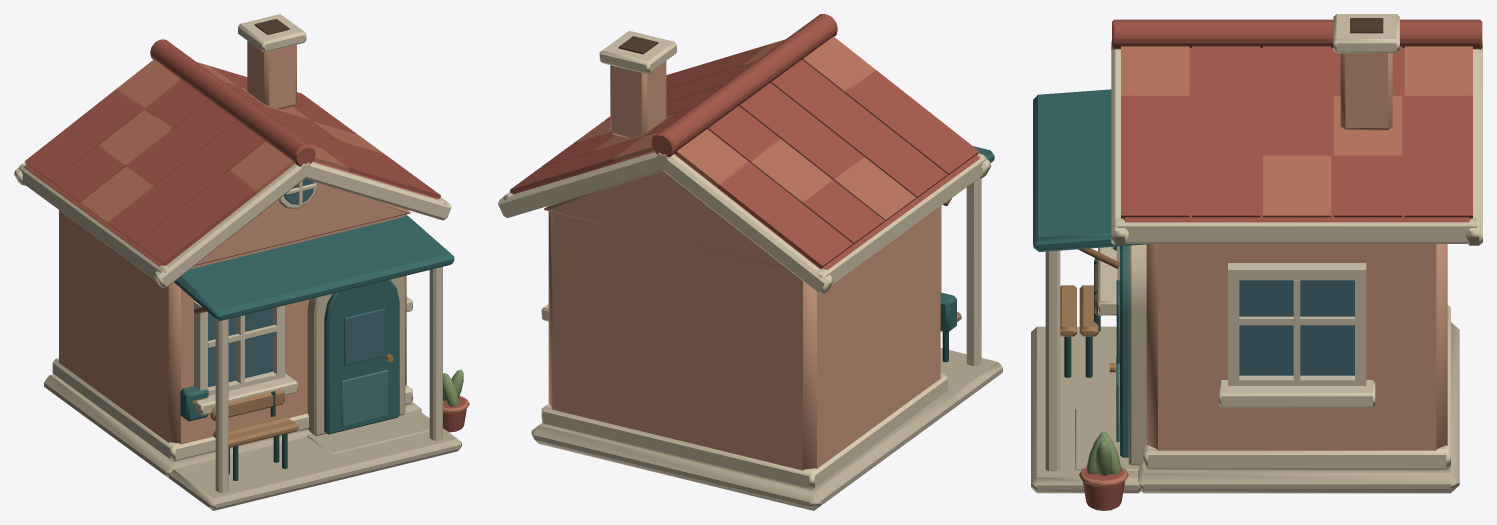
File: house_level_2.glb
The picture shows the model from 3 angles, left to right: view 1: azimuth 30°, elevation 25°; view 2: azimuth 150°, elevation 25°; view 3: azimuth 270°, elevation 25°; orthographic projection. The views are drawn at different scales.
Visible parts, largest first — view 1: house_level_2_runtime; view 2: house_level_2_runtime; view 3: house_level_2_runtime.
Part boxes in pixels (x1,y1,x2,y2): house_level_2_runtime: (14,14,469,510); house_level_2_runtime: (498,14,1002,510); house_level_2_runtime: (1031,14,1482,510).
Bounding box in the file's own units: 3.33 × 3.58 × 3.38.
